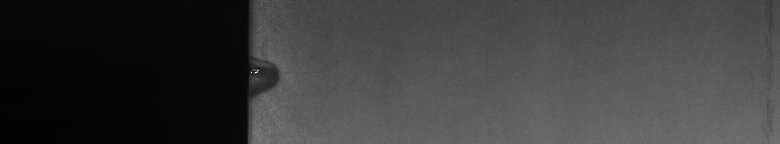hb: (260, 52, 288, 104)
